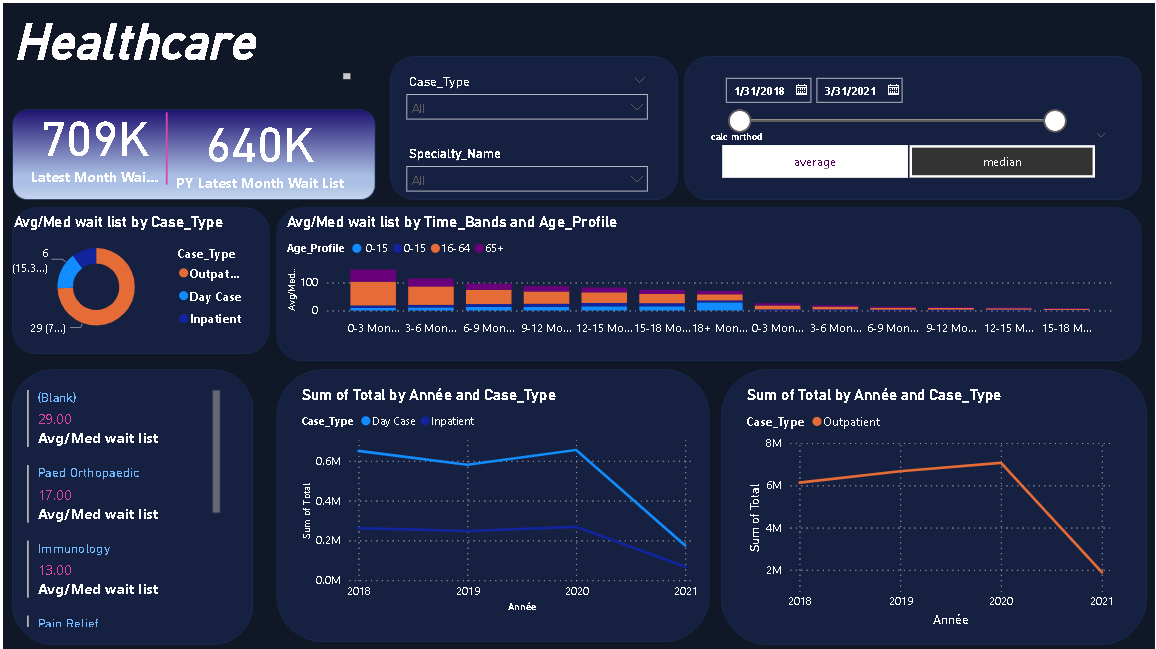

This screenshot's page, from the dashboard's own definition file:
{"tool":"powerbi","page":{"name":"Summary","canvas":[1300,900],"ordinal":0},"visuals":[{"type":"card","fields":{"Values":["metrics.Latest Month Wait List"]},"box":[32,176,160,128],"z":0},{"type":"card","fields":{"Values":["metrics.PY Latest Month Wait List"]},"box":[192,192,208,112],"z":1000},{"type":"slicer","fields":{"Values":["calculation method.calc mrthod"]},"box":[784,224,464,64],"z":2000},{"type":"donutChart","fields":{"Category":["All_Data.Case_Type"],"Y":["metrics.Avg/Med wait list"]},"box":[16,320,272,144],"z":3000},{"type":"columnChart","fields":{"Y":["metrics.Avg/Med wait list"],"Category":["All_Data.Time_Bands"],"Series":["All_Data.Age_Profile"]},"box":[320,320,928,144],"z":4000},{"type":"multiRowCard","fields":{"Values":["metrics.Avg/Med wait list","All_Data.Specialty_Name"]},"box":[32,512,224,272],"z":5000},{"type":"lineChart","fields":{"Category":["All_Data.Archive_Date.Variation.Hiérarchie de dates.Année","All_Data.Archive_Date.Variation.Hiérarchie de dates.Trimestre","All_Data.Archive_Date.Variation.Hiérarchie de dates.Mois","All_Data.Archive_Date.Variation.Hiérarchie de dates.Jour"],"Y":["Sum(All_Data.Total)"],"Series":["All_Data.Case_Type"]},"box":[336,512,448,256],"z":6000},{"type":"lineChart","fields":{"Category":["All_Data.Archive_Date.Variation.Hiérarchie de dates.Année","All_Data.Archive_Date.Variation.Hiérarchie de dates.Trimestre","All_Data.Archive_Date.Variation.Hiérarchie de dates.Mois","All_Data.Archive_Date.Variation.Hiérarchie de dates.Jour"],"Y":["Sum(All_Data.Total)"],"Series":["All_Data.Case_Type"]},"box":[832,512,416,272],"z":7000},{"type":"slicer","fields":{"Values":["All_Data.Archive_Date"]},"box":[800,160,400,80],"z":8000},{"type":"slicer","fields":{"Values":["All_Data.Case_Type"]},"box":[448,160,288,64],"z":9000},{"type":"slicer","fields":{"Values":["All_Data.Specialty_Name"]},"box":[448,240,288,64],"z":10000},{"type":"textbox","title":"Healthcare","box":[16,96,384,80],"z":11000},{"type":"shape","box":[48.8,209,287.2,80.1],"z":12000}]}

Visuals, with their boxes on the page's 1300x900 design canvas (x1, y1, x2, y2). These are canvas units, not pixel positions in the 1156x649 screenshot, which may show the page scaled, cropped or inside an application window:
card - metrics.Latest Month Wait List: x1=32, y1=176, x2=192, y2=304
card - metrics.PY Latest Month Wait List: x1=192, y1=192, x2=400, y2=304
slicer - calculation method.calc mrthod: x1=784, y1=224, x2=1248, y2=288
donutChart - All_Data.Case_Type x metrics.Avg/Med wait list: x1=16, y1=320, x2=288, y2=464
columnChart - metrics.Avg/Med wait list x All_Data.Time_Bands: x1=320, y1=320, x2=1248, y2=464
multiRowCard - metrics.Avg/Med wait list x All_Data.Specialty_Name: x1=32, y1=512, x2=256, y2=784
lineChart - All_Data.Archive_Date.Variation.Hiérarchie de dates.Année x All_Data.Archive_Date.Variation.Hiérarchie de dates.Trimestre: x1=336, y1=512, x2=784, y2=768
lineChart - All_Data.Archive_Date.Variation.Hiérarchie de dates.Année x All_Data.Archive_Date.Variation.Hiérarchie de dates.Trimestre: x1=832, y1=512, x2=1248, y2=784
slicer - All_Data.Archive_Date: x1=800, y1=160, x2=1200, y2=240
slicer - All_Data.Case_Type: x1=448, y1=160, x2=736, y2=224
slicer - All_Data.Specialty_Name: x1=448, y1=240, x2=736, y2=304
"Healthcare" textbox: x1=16, y1=96, x2=400, y2=176
shape: x1=49, y1=209, x2=336, y2=289
